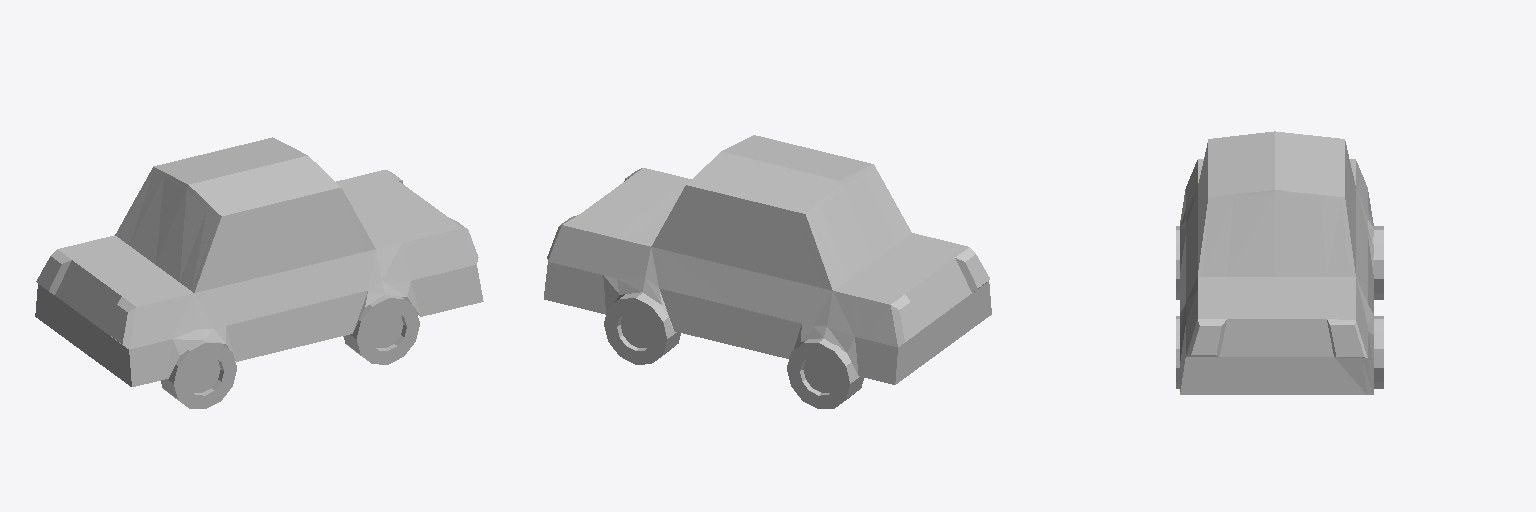
The model's file is car.obj.
The picture shows the model from 3 angles: view 1: azimuth 30°, elevation 25°; view 2: azimuth 150°, elevation 25°; view 3: azimuth 270°, elevation 25°; orthographic projection.
Parts seen in each view (by area): view 1: car1; view 2: car1; view 3: car1.
Boxes of the visible parts, x1,y1,x2,y2 form: car1: [35, 137, 483, 408]; car1: [544, 135, 991, 408]; car1: [1176, 131, 1383, 394].
Size of the model in its own units: 17.9 by 8.65 by 9.03.